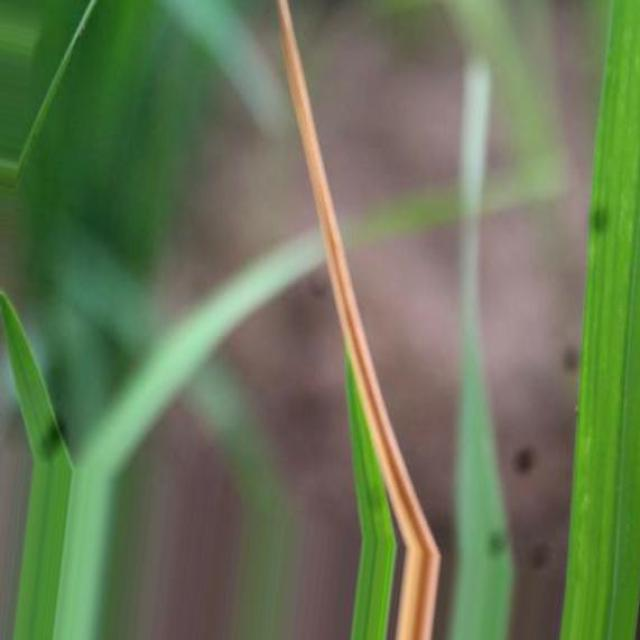Rice Tungro: (278, 0, 440, 638)
